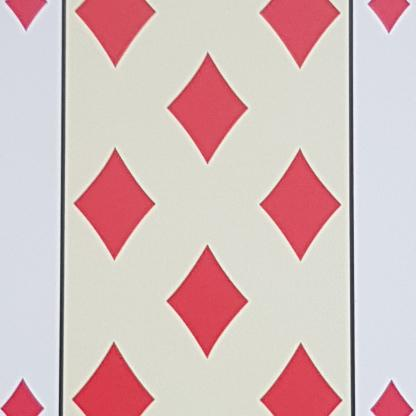8d: (357, 0, 415, 52), (0, 0, 65, 44)
